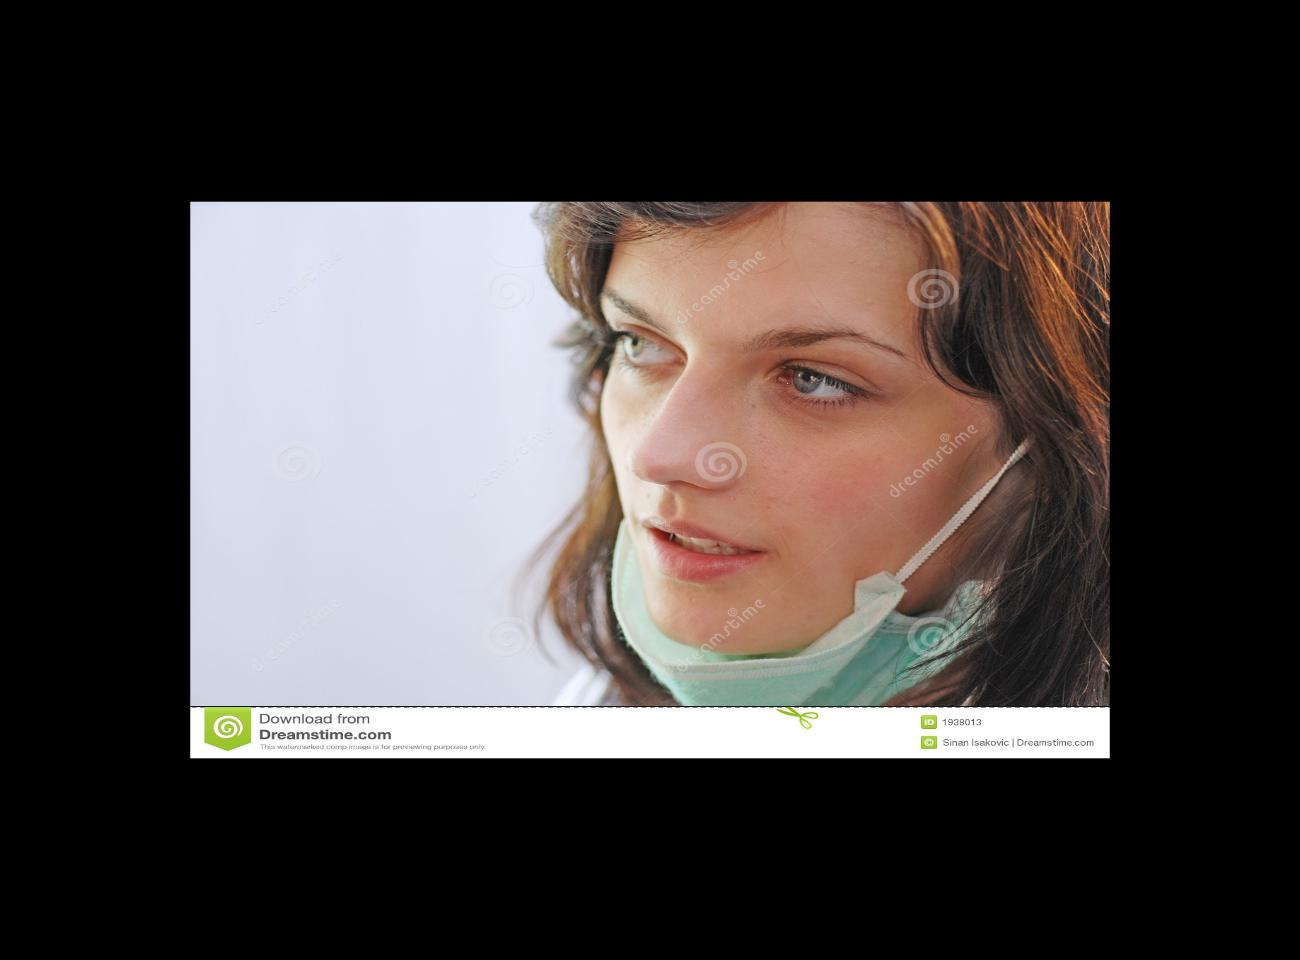mask_weared_incorrect: (605, 308, 950, 688)
